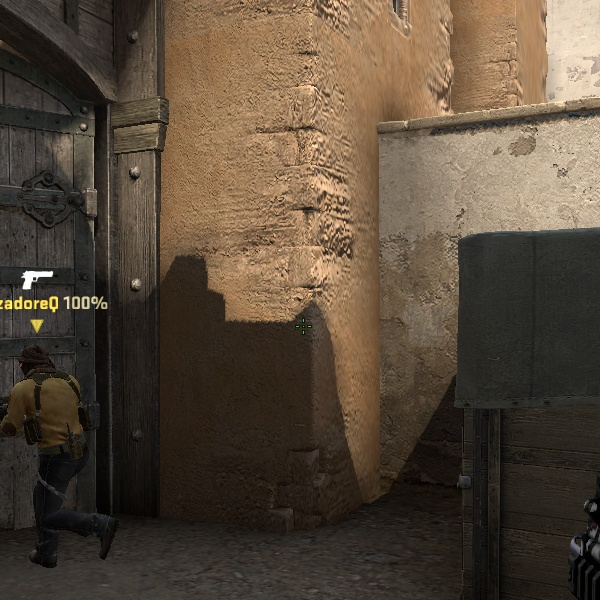t_body: (1, 343, 99, 551)
t_head: (17, 343, 53, 375)
